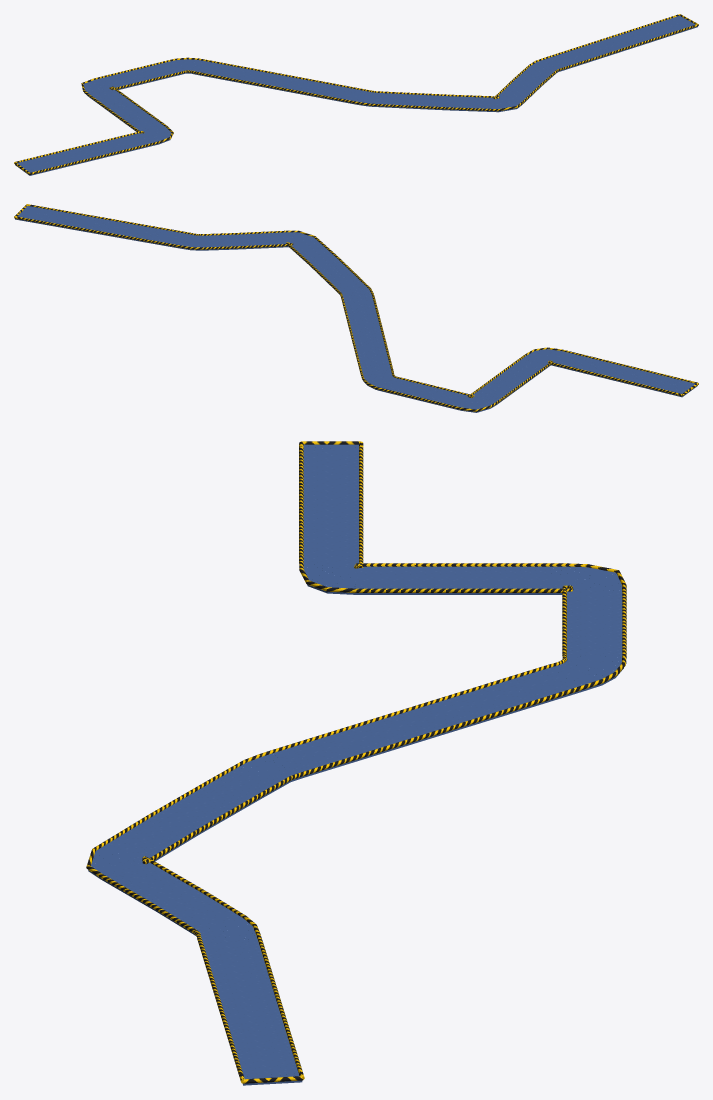
Rendered from Pain.fbx.
3 renders of one model, top to bottom at view 1: azimuth 30°, elevation 25°; view 2: azimuth 150°, elevation 25°; view 3: azimuth 270°, elevation 25°, orthographic. The views are drawn at different scales.
Parts seen in each view (by area): view 1: Cube; view 2: Cube; view 3: Cube.
Part boxes in pixels (box(x1,y1,x2,y2)): Cube: box(14, 14, 698, 175); Cube: box(14, 204, 698, 412); Cube: box(86, 441, 626, 1085).
Bounding box in the file's own units: 20262 × 89.93 × 7231.
